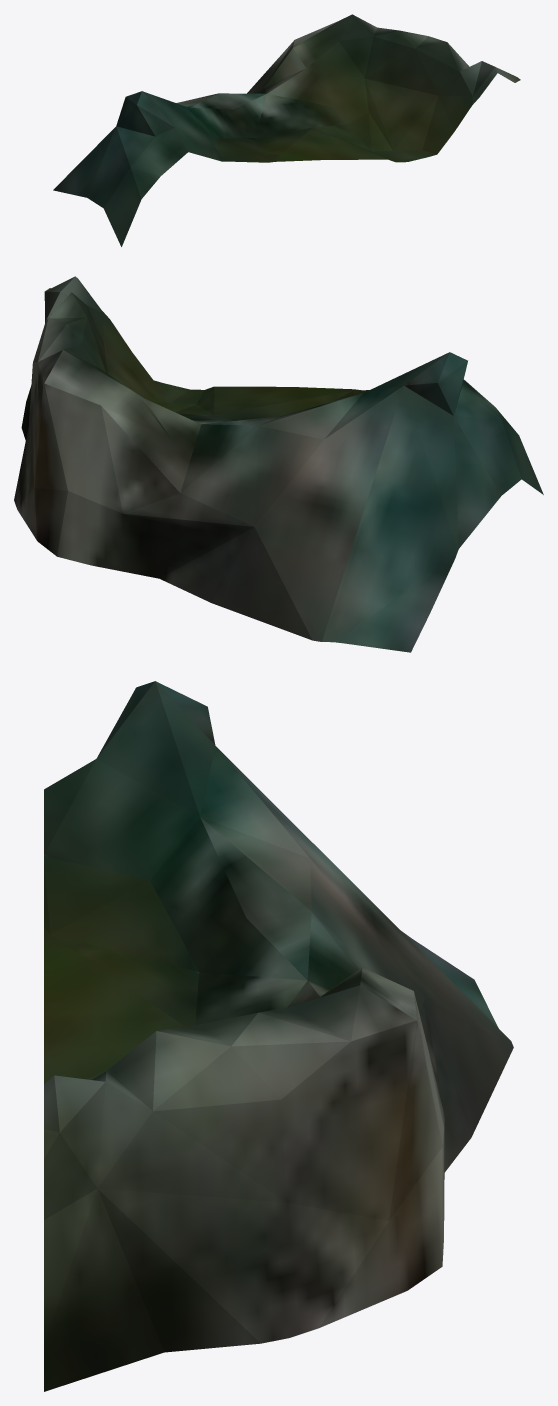
3 renders of one model, top to bottom at view 1: azimuth 30°, elevation 25°; view 2: azimuth 150°, elevation 25°; view 3: azimuth 270°, elevation 25°, orthographic. The views are drawn at different scales.
Size of the model in its own units: 0.2063 by 0.0807 by 0.0994.
1 material, 1 textured.
